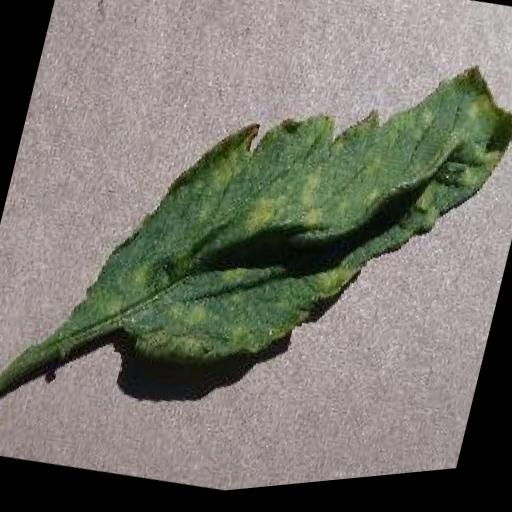Leaf Mold: (73, 0, 512, 440)
